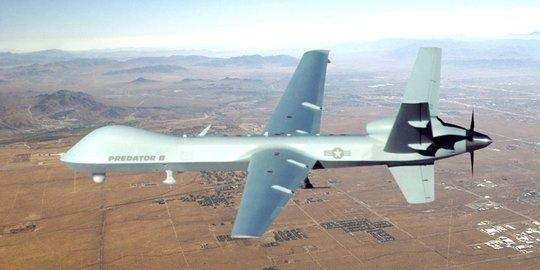aircraft: (62, 47, 511, 239)
